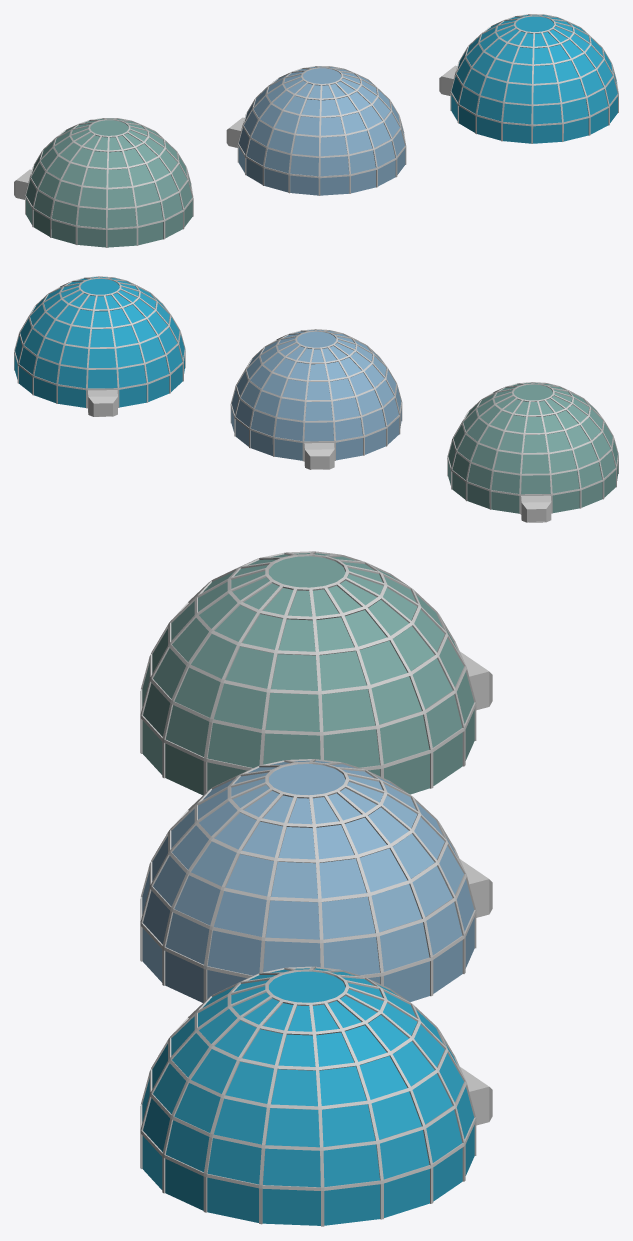
The model's file is dome.obj.
The picture shows the model from 3 angles, top to bottom: view 1: azimuth 30°, elevation 25°; view 2: azimuth 150°, elevation 25°; view 3: azimuth 270°, elevation 25°; orthographic projection. The views are drawn at different scales.
Parts seen in each view (by area): view 1: Sphere.004, Sphere.003, Sphere.005; view 2: Sphere.004, Sphere.005, Sphere.003; view 3: Sphere.003, Sphere.005, Sphere.004.
Boxes of the visible parts, x1,y1,x2,y2 form: Sphere.004: (226, 66, 406, 195); Sphere.003: (439, 14, 618, 143); Sphere.005: (14, 118, 193, 247); Sphere.004: (230, 329, 402, 469); Sphere.005: (447, 382, 618, 522); Sphere.003: (14, 276, 185, 416); Sphere.003: (140, 966, 492, 1226); Sphere.005: (140, 551, 492, 795); Sphere.004: (140, 759, 492, 1002).
Bounding box in the file's own units: 7.8 × 1.1 × 2.08.
